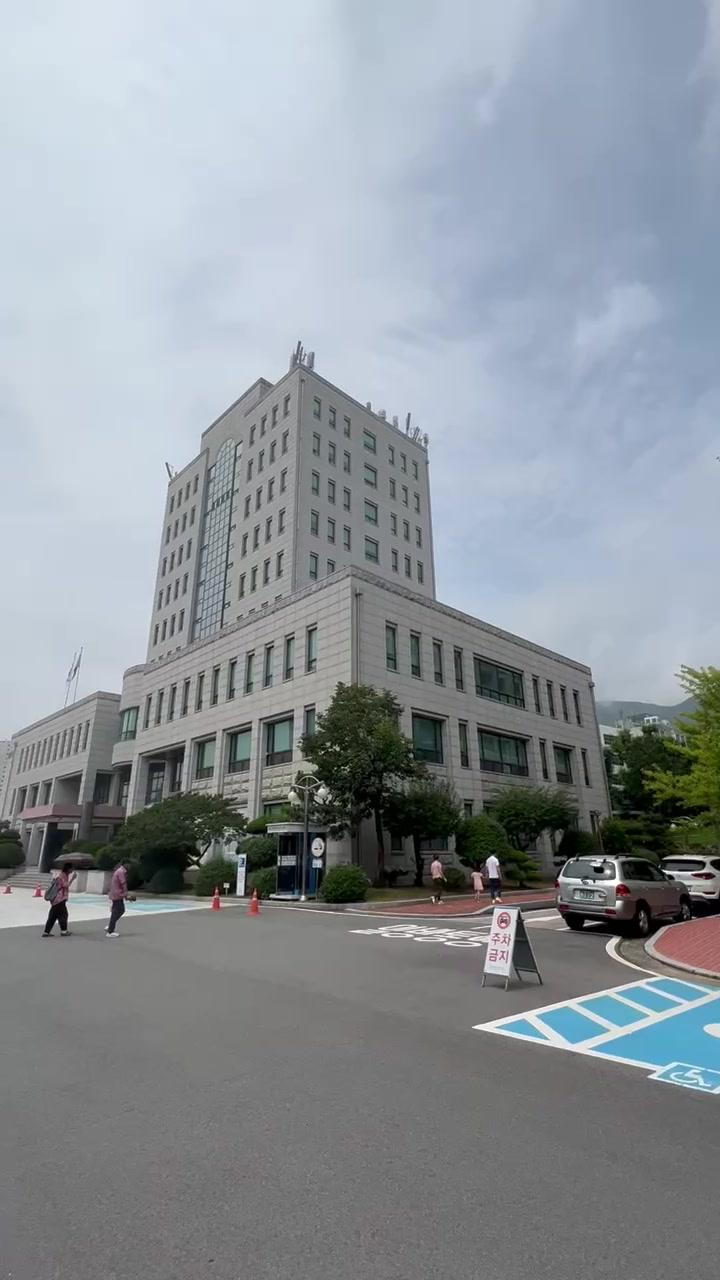building: (134, 360, 478, 704)
